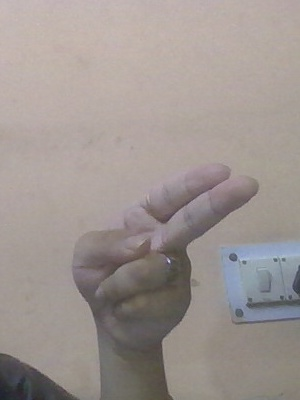H: (70, 159, 261, 351)
